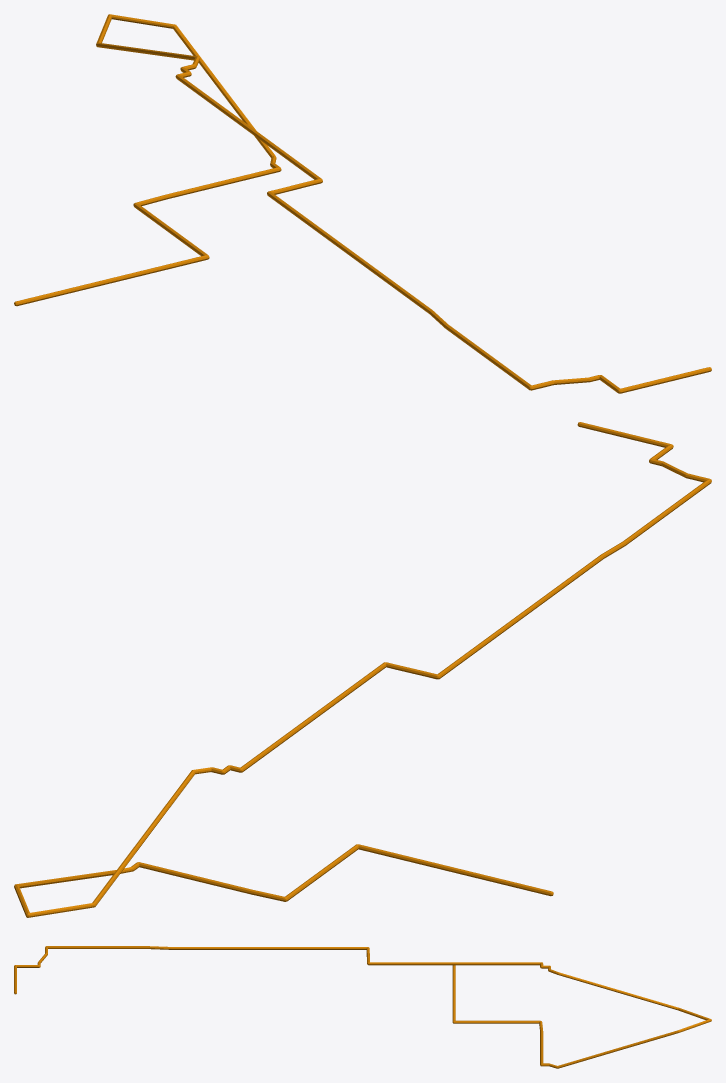
The picture shows the model from 3 angles, top to bottom: view 1: azimuth 30°, elevation 25°; view 2: azimuth 150°, elevation 25°; view 3: azimuth 270°, elevation 25°; orthographic projection. The views are drawn at different scales.
Size of the model in its own units: 1548 by 520 by 4435.
